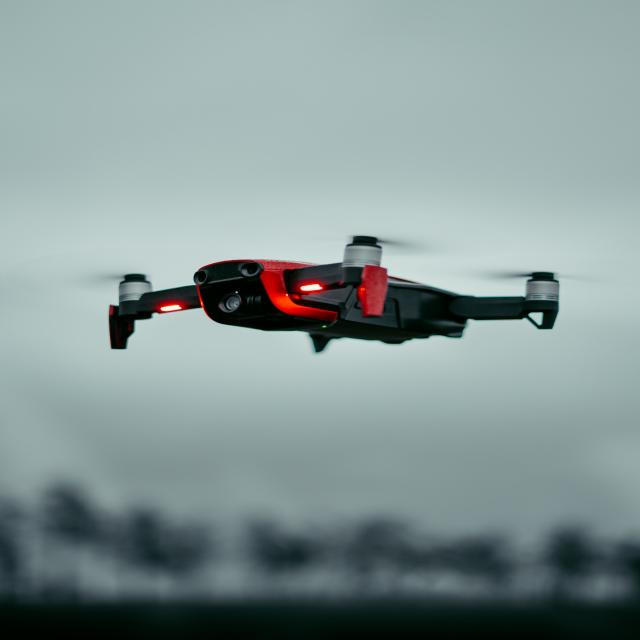drone: (23, 208, 634, 397)
